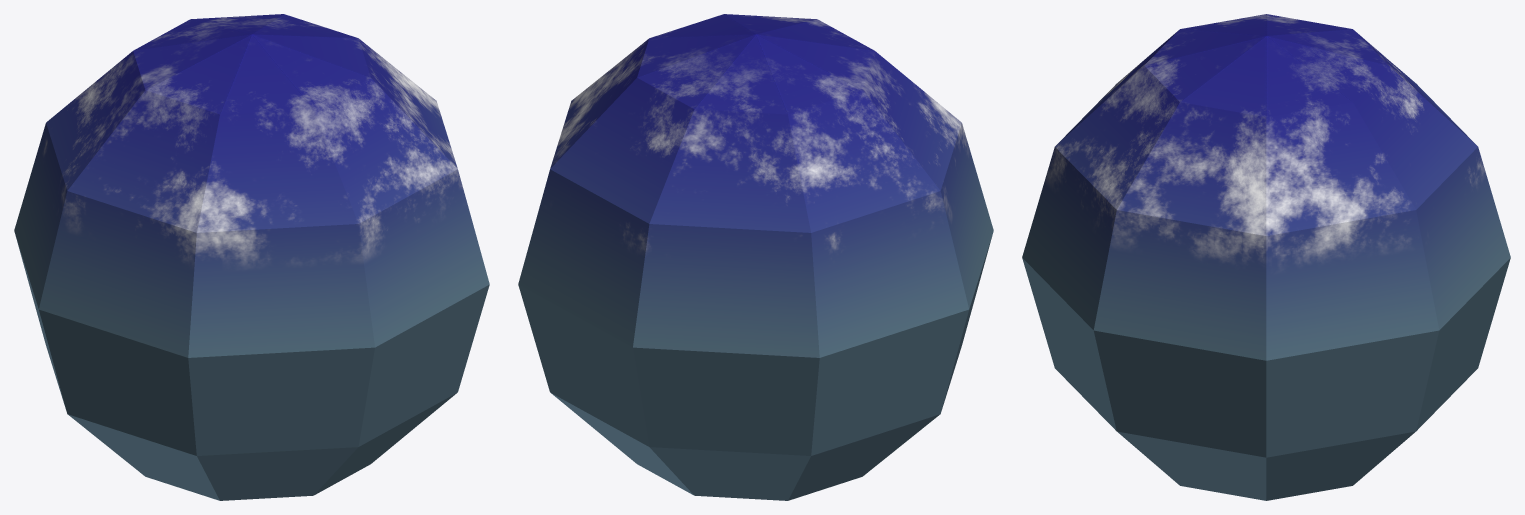
The model's file is shy.gltf.
3 views of the same model, side by side, from view 1: azimuth 30°, elevation 25°; view 2: azimuth 150°, elevation 25°; view 3: azimuth 270°, elevation 25° (orthographic).
Parts seen in each view (by area): view 1: 球; view 2: 球; view 3: 球.
Part boxes in pixels (x1,y1,x2,y2): 球: (14, 14, 489, 500); 球: (518, 14, 993, 500); 球: (1022, 14, 1510, 500).
Size of the model in its own units: 2 by 2 by 2.
Materials: 1 (1 with a texture image).
